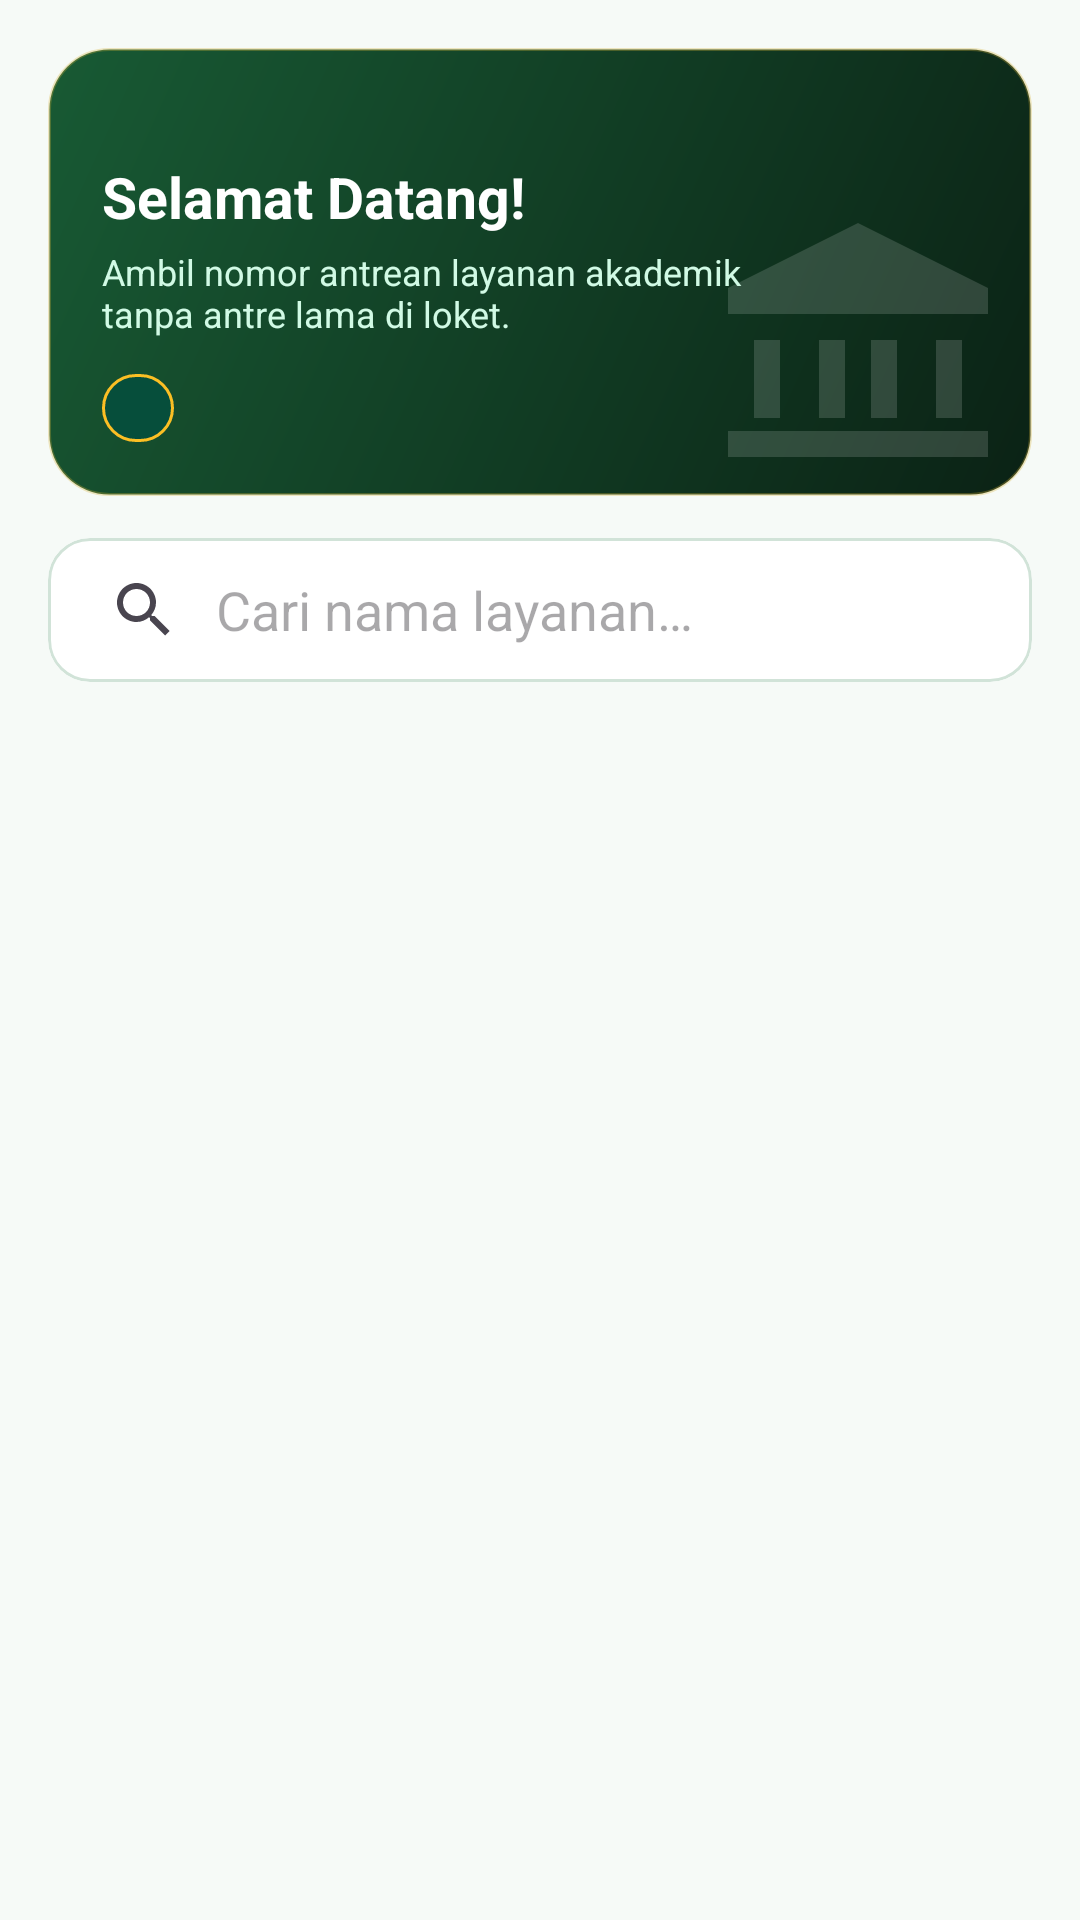

Named icons in this screenshot (1080×1920) and their centers, (x=x, y=y):
Ilustrasi Gedung Kampus: (x=858, y=340)
